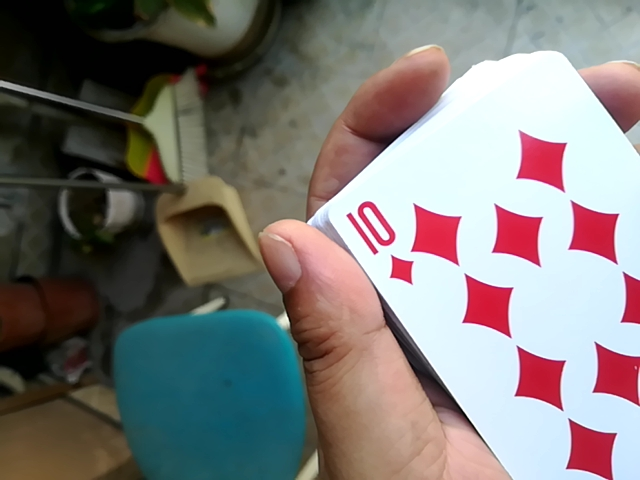fk 10: (309, 50, 640, 480)
